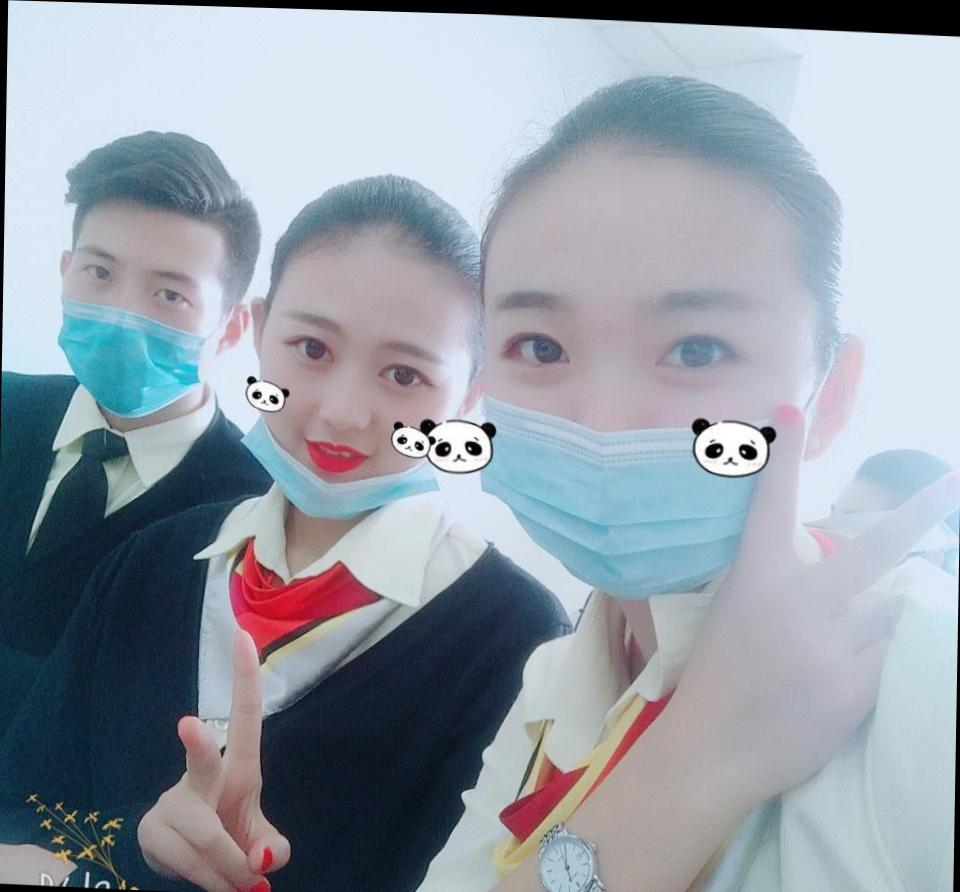OK: (48, 224, 238, 418)
WRONG: (474, 232, 810, 599), (258, 282, 464, 520)
